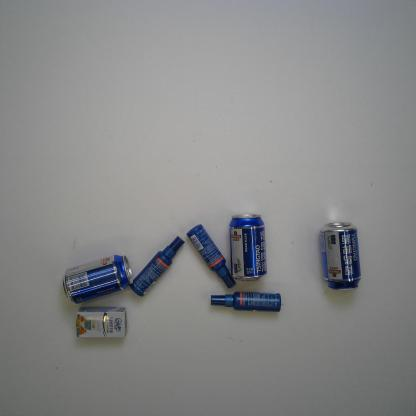Alcohol: (61, 253, 136, 305), (316, 221, 363, 292), (227, 212, 268, 282)
Milk: (73, 304, 128, 341)
Personal Hygiene: (186, 221, 236, 292), (128, 235, 184, 298), (210, 291, 282, 313)
